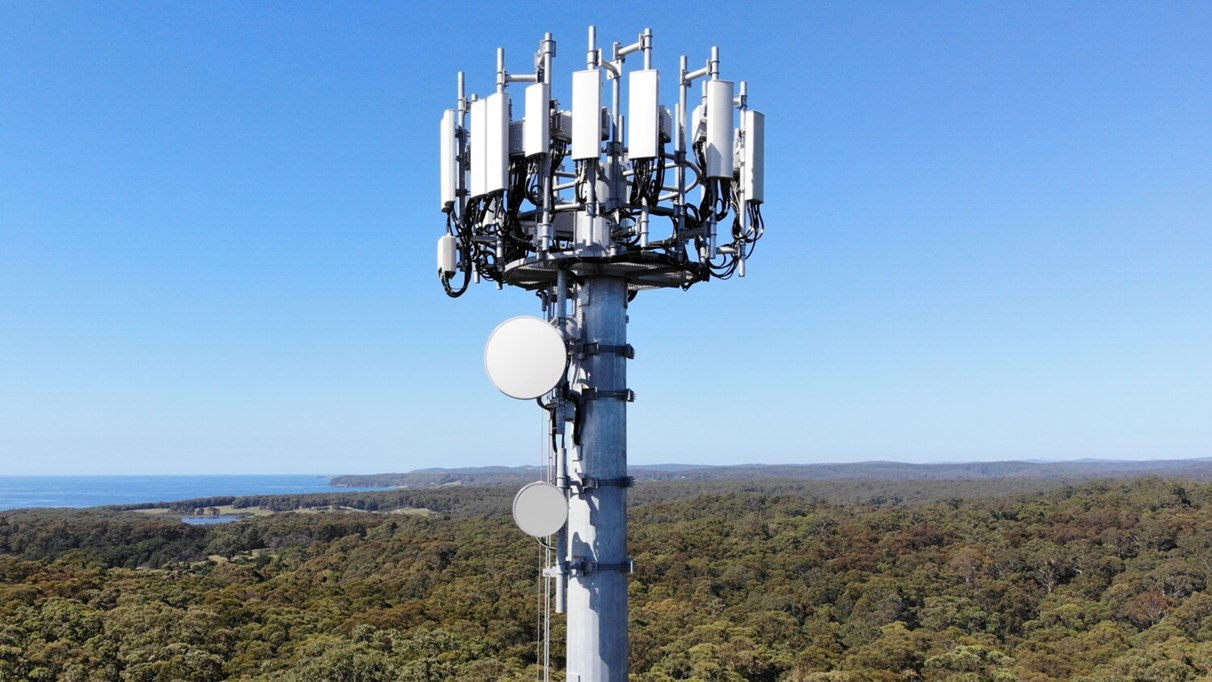a: (571, 70, 600, 155), (709, 80, 733, 176), (630, 72, 656, 158), (742, 109, 765, 202), (487, 97, 509, 191), (525, 82, 547, 155), (470, 100, 485, 198), (440, 112, 455, 203)
b: (484, 315, 566, 401), (515, 480, 566, 537)
